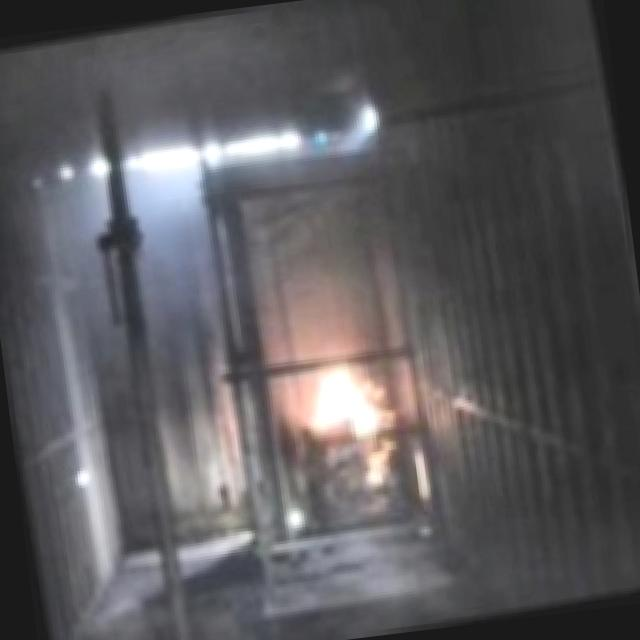fire: (298, 336, 392, 459)
